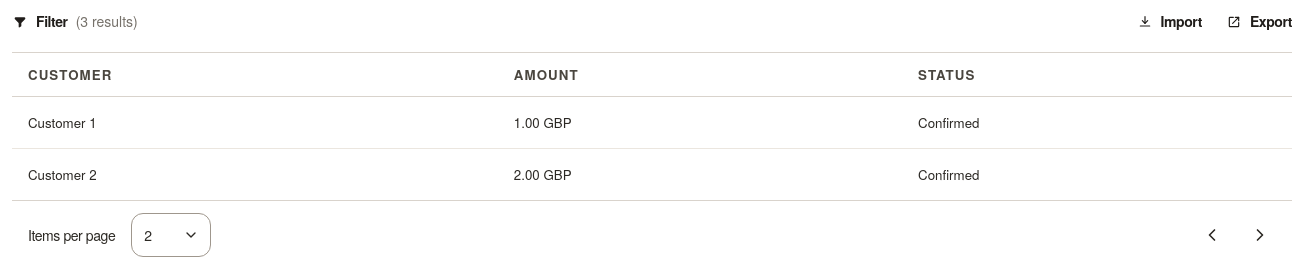
DataTable › uses custom getRowKey for row identity
Expected: the text "Customer 1" is shown, [12, 96, 498, 148]
Click the button named "Next page" at [1260, 235], box [1244, 219, 1276, 251]
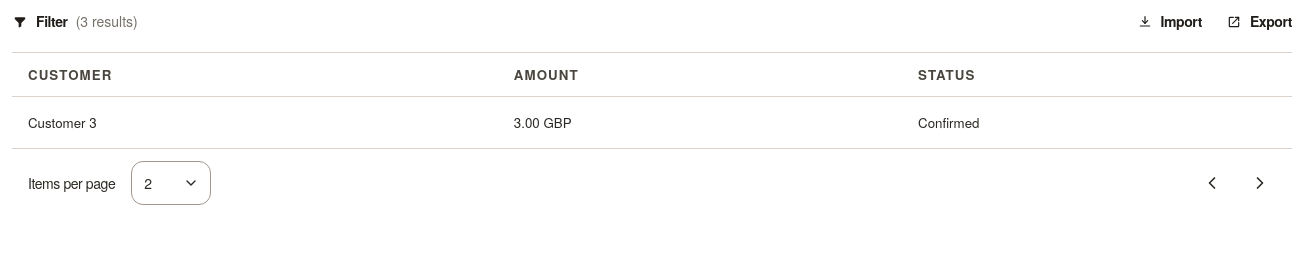
Expected: the text "Customer 3" is shown, [12, 96, 498, 148]
